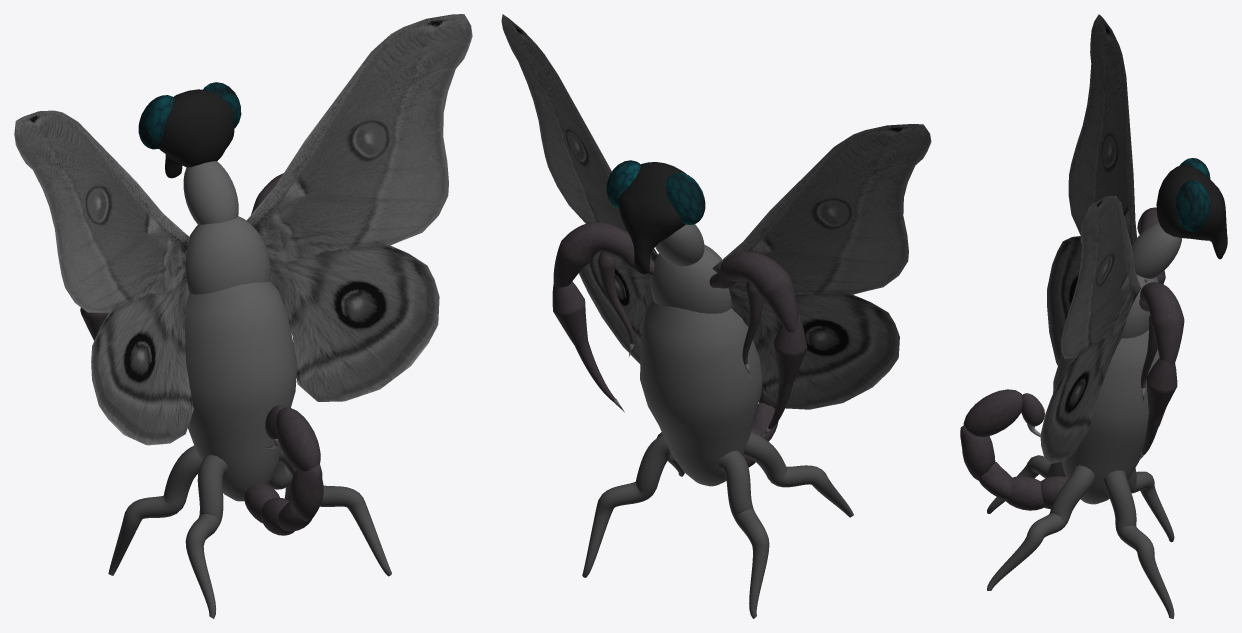
The model's file is queenfly.glb.
3 views of the same model, side by side, from view 1: azimuth 30°, elevation 25°; view 2: azimuth 150°, elevation 25°; view 3: azimuth 270°, elevation 25° (orthographic). The views are drawn at different scales.
Visible parts, largest first — view 1: Plane.002, Plane.001, Body, Neck, Head, Icosphere.005, BezierCurve, BezierCurve.001, Neck 2, Icosphere.006, BezierCurve.003, Eye; view 2: Plane.001, Body, Plane.002, Head, Neck, BezierCurve.009, BezierCurve.005, BezierCurve.001, BezierCurve.002, BezierCurve, BezierCurve.004, BezierCurve.008 (+6 smaller); view 3: Plane.002, Plane.001, Body, Icosphere.005, Head, BezierCurve.002, BezierCurve.003, BezierCurve.005, Icosphere.006, Neck 2, BezierCurve.004, Eye 2 (+5 smaller).
Boxes of the visible parts, left/top/right/bottom form: Plane.002: left=246, top=14, right=472, bottom=401; Plane.001: left=14, top=110, right=193, bottom=445; Body: left=184, top=281, right=297, bottom=501; Neck: left=185, top=216, right=270, bottom=294; Head: left=159, top=89, right=234, bottom=178; Icosphere.005: left=244, top=464, right=323, bottom=535; BezierCurve: left=185, top=454, right=227, bottom=618; BezierCurve.001: left=108, top=446, right=201, bottom=575; Neck 2: left=183, top=161, right=238, bottom=224; Icosphere.006: left=275, top=407, right=320, bottom=471; BezierCurve.003: left=278, top=449, right=391, bottom=576; Eye: left=138, top=95, right=174, bottom=149; Plane.001: left=712, top=124, right=931, bottom=409; Body: left=640, top=299, right=762, bottom=486; Plane.002: left=501, top=14, right=657, bottom=364; Head: left=618, top=162, right=686, bottom=274; Neck: left=650, top=244, right=731, bottom=313; BezierCurve.009: left=709, top=251, right=798, bottom=332; BezierCurve.005: left=553, top=222, right=654, bottom=287; BezierCurve.001: left=718, top=450, right=769, bottom=618; BezierCurve.002: left=582, top=434, right=673, bottom=577; BezierCurve: left=743, top=432, right=853, bottom=517; BezierCurve.004: left=552, top=281, right=615, bottom=401; BezierCurve.008: left=768, top=316, right=807, bottom=429; Plane.002: left=1040, top=195, right=1141, bottom=463; Plane.001: left=1047, top=14, right=1137, bottom=365; Body: left=1053, top=330, right=1165, bottom=504; Icosphere.005: left=960, top=425, right=1066, bottom=510; Head: left=1156, top=164, right=1227, bottom=259; BezierCurve.002: left=1103, top=470, right=1174, bottom=618; BezierCurve.003: left=987, top=465, right=1094, bottom=590; BezierCurve.005: left=1139, top=279, right=1184, bottom=364; Icosphere.006: left=963, top=389, right=1022, bottom=436; Neck 2: left=1131, top=222, right=1182, bottom=278; BezierCurve.004: left=1141, top=358, right=1177, bottom=454; Eye 2: left=1176, top=180, right=1210, bottom=231.
Bounding box in the file's own units: 9.65 × 10.63 × 5.48.
7 materials, 3 textured.
